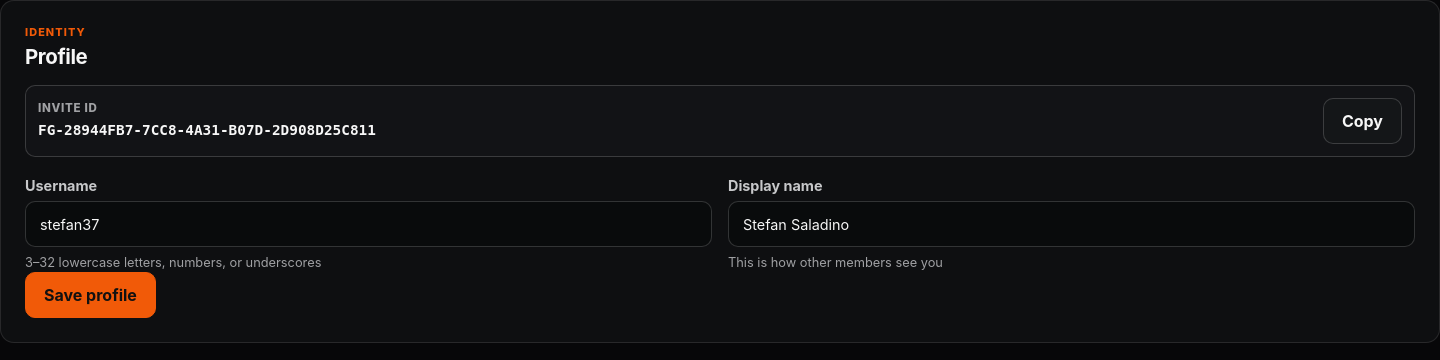
Test: ProfileSettingsForm invite ID › shows the complete invite ID in its own row and copies the full value
Check: the text "FG-28944FB7-7CC8-4A31-B07D-2D908D25C811" is shown, box [38,122,376,138]
What coordinates should you click on to do the following:
click the button with aria-label "Copy invite ID"
I would click on:
 (1362, 121)
Its box is [1323,98,1402,144].
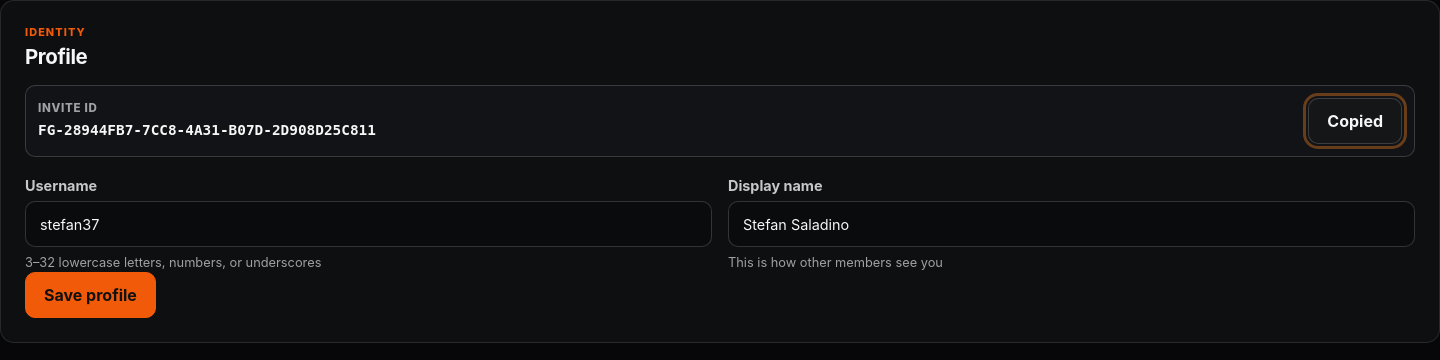
Check: the button with aria-label "Copy invite ID" reads "Copied", box [1308,98,1402,144]
